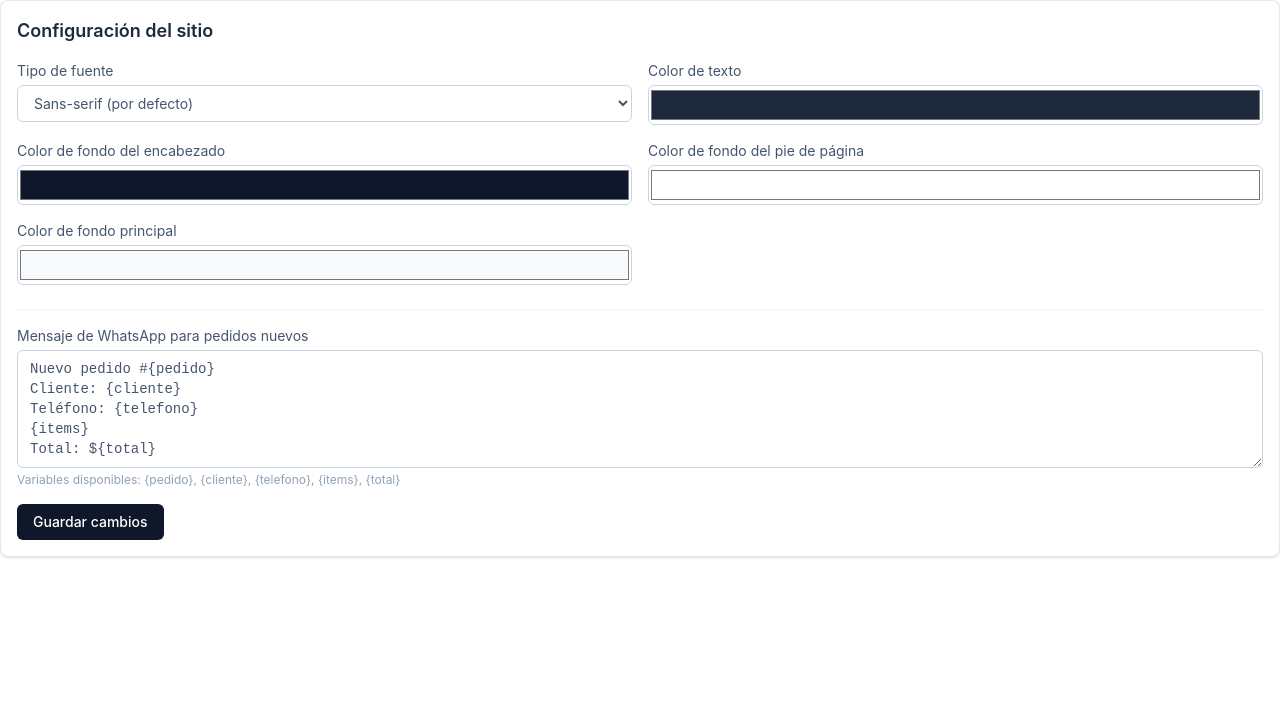
Test: AdminSettings › muestra un error si falla el guardado
Expected: the heading "Configuración del sitio" is shown, [17,20,213,41]
Click the button "Guardar cambios". click: (90,522)
box: [17,504,164,540]
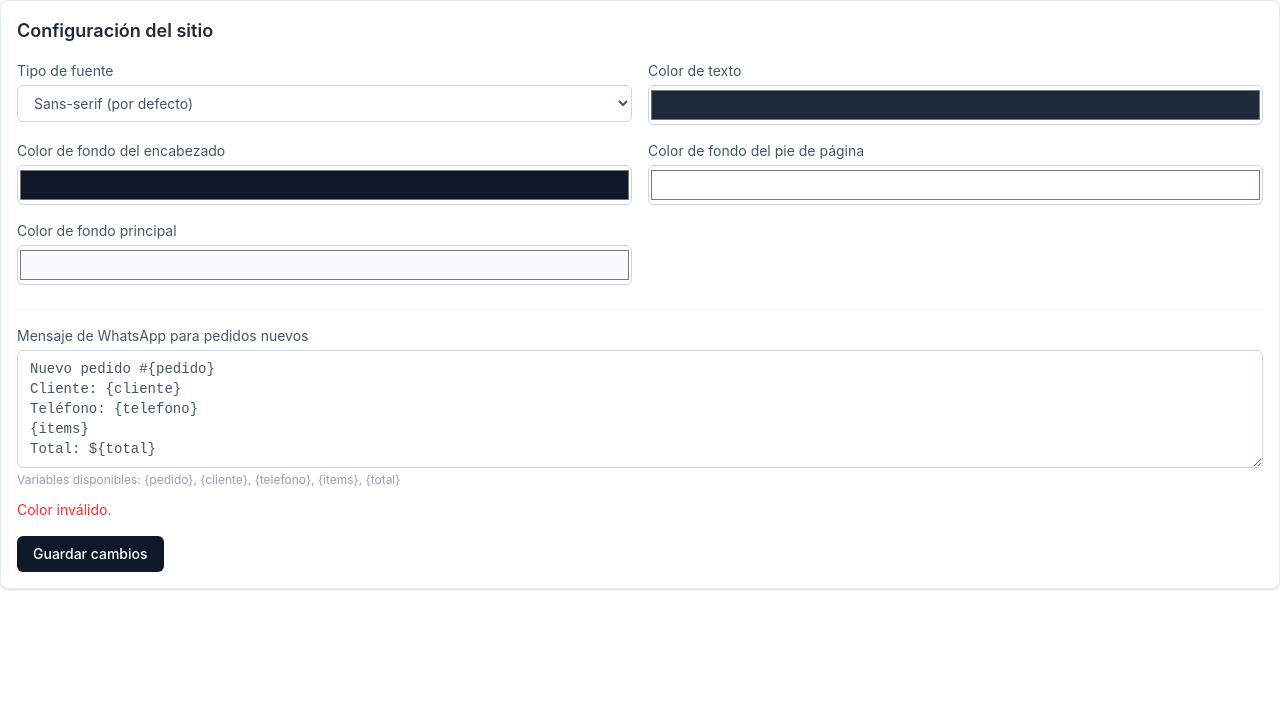
Expected: the text "Color inválido." is shown, [17,501,112,518]
